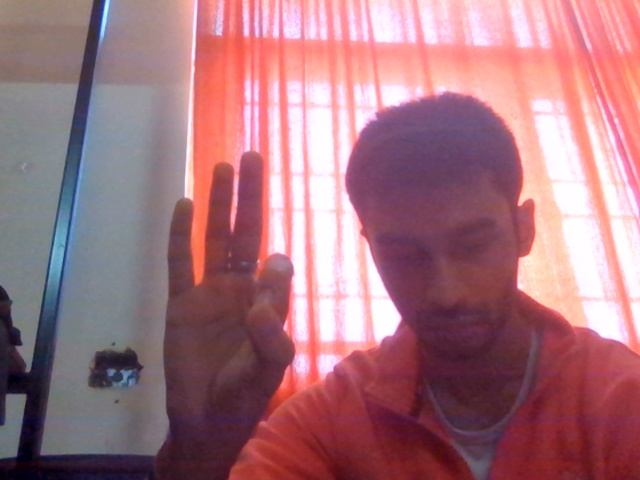F: (130, 142, 318, 455)
